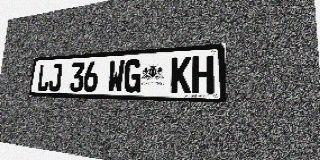3: (69, 62, 85, 92)
6: (83, 61, 99, 92)
G: (124, 59, 142, 93)
H: (192, 55, 214, 94)
J: (48, 63, 63, 91)
K: (171, 56, 192, 94)
L: (37, 64, 51, 91)
W: (107, 60, 125, 92)
